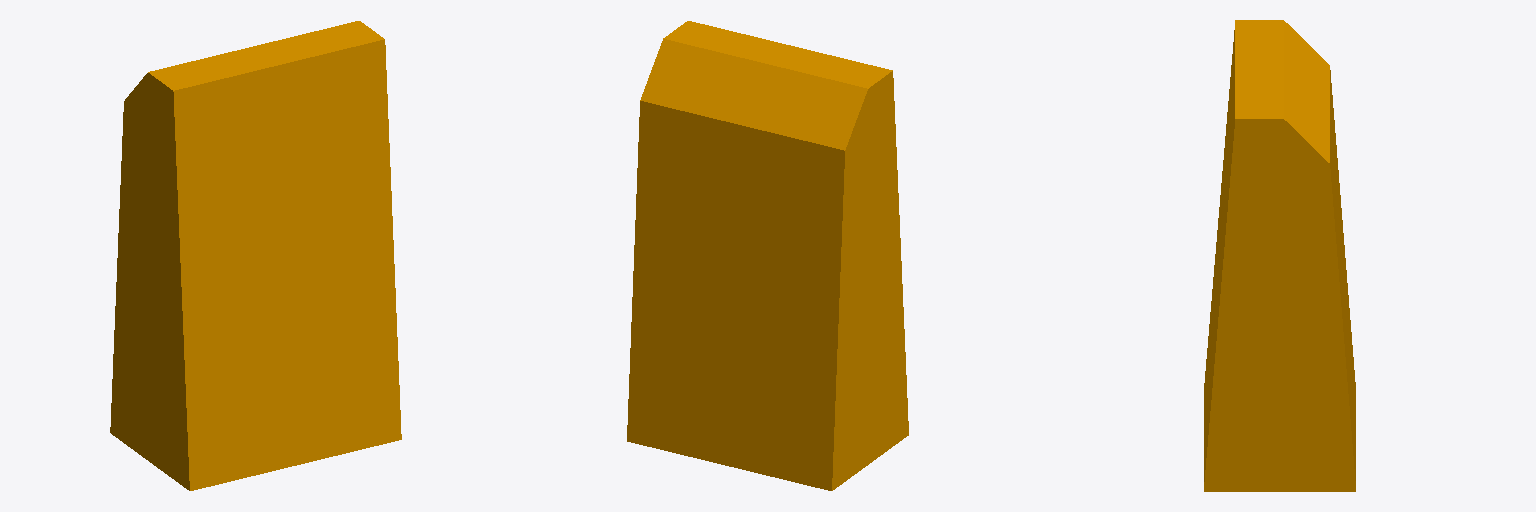
robot.urdf — knife_feeder:
<?xml version="1.0" ?>
<robot name="knife_feeder">

    <link name="collision_mesh_knife_feeder">
        <visual>
            <origin rpy="0 0 0" xyz="0 0 0"/>
            <geometry>
                <mesh filename="./environment/knife_feeder.stl"/>
            </geometry>
        </visual>
        <inertial>
            <mass value="0"/>
            <origin rpy="0 0 0" xyz="0 0 0"/>
            <inertia ixx="0" ixy="0.0" ixz="0.0" iyy="0" iyz="0" izz="0"/>
        </inertial>
        <collision>
            <origin rpy="0 0 0" xyz="0 0 0"/>
            <geometry>
                <mesh filename="./environment/knife_feeder.stl"/>
            </geometry>
        </collision>
    </link>

</robot>

--- Facts derived from the render (not from the file) ---
Views: 3 orthographic renders of the robot side by side, from view 1: azimuth 30°, elevation 25°; view 2: azimuth 150°, elevation 25°; view 3: azimuth 270°, elevation 25°.
Model knife_feeder with 1 links and 0 joints (none), rooted at collision_mesh_knife_feeder, posed all joints at 0.
Visible links, largest first — view 1: collision_mesh_knife_feeder; view 2: collision_mesh_knife_feeder; view 3: collision_mesh_knife_feeder.
Link boxes in pixels (x1,y1,x2,y2): collision_mesh_knife_feeder: [110, 21, 401, 490]; collision_mesh_knife_feeder: [627, 21, 908, 490]; collision_mesh_knife_feeder: [1204, 20, 1355, 491].
Bounding box of the posed robot: 0.6 × 0.391 × 1.05 m (x, y, z).
1 mesh visuals loaded from 1 distinct referenced files (1 binary STL).